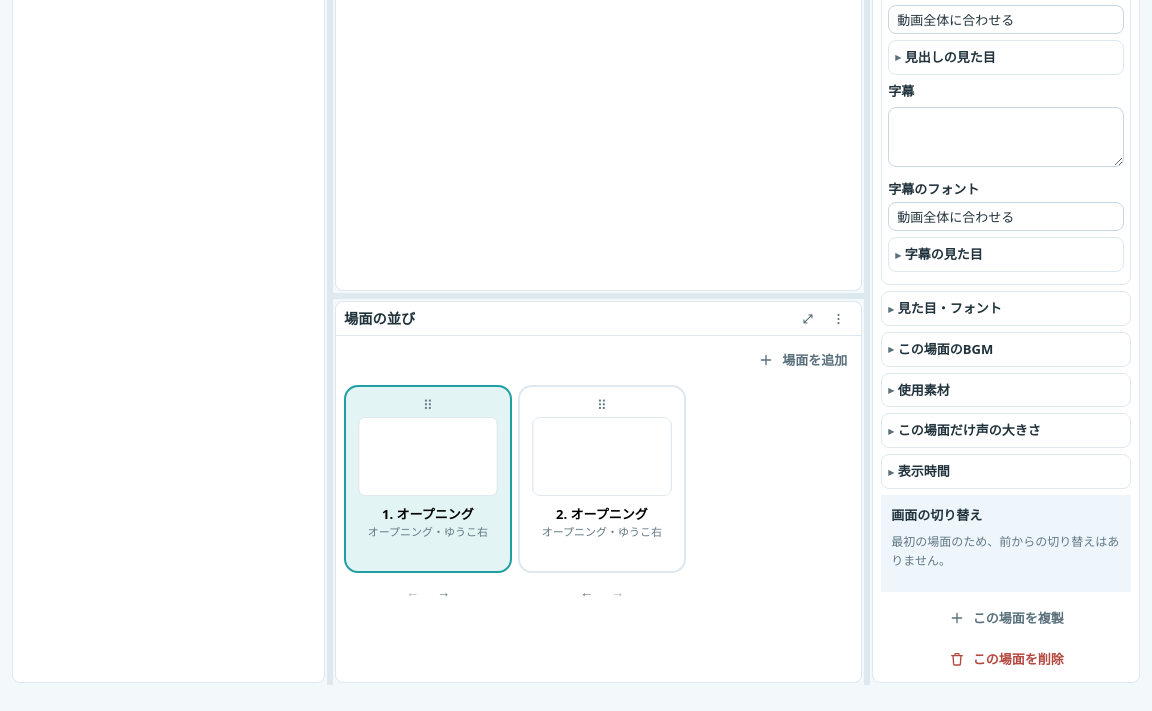
Test: SceneEditScreen 場面カードの右クリック（#772 候補6） › 確認をやめれば消えない
(page scrolled)
Right-click the button "⠿ 1. オープニング オープニング・ゆうこ右": [428, 479] box [344,386,512,573]
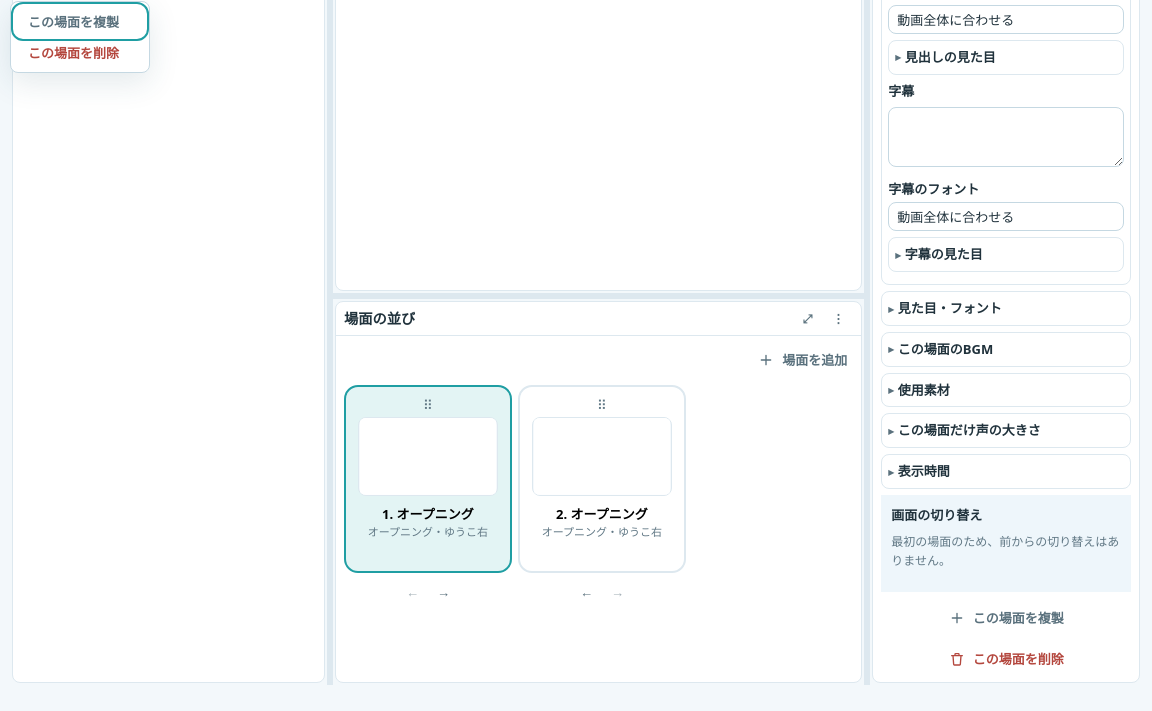
Click the menu item "この場面を削除": [80, 52] box [15,37,145,68]
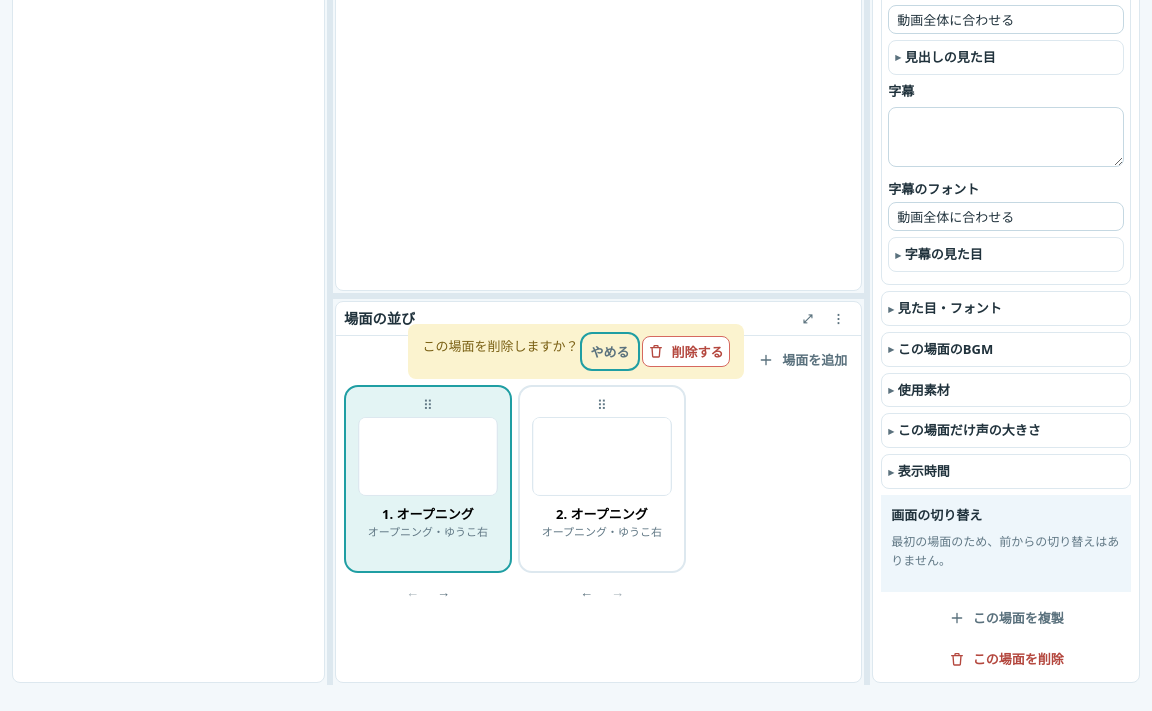
Click the button "やめる": [610, 351] box [584,336,636,366]
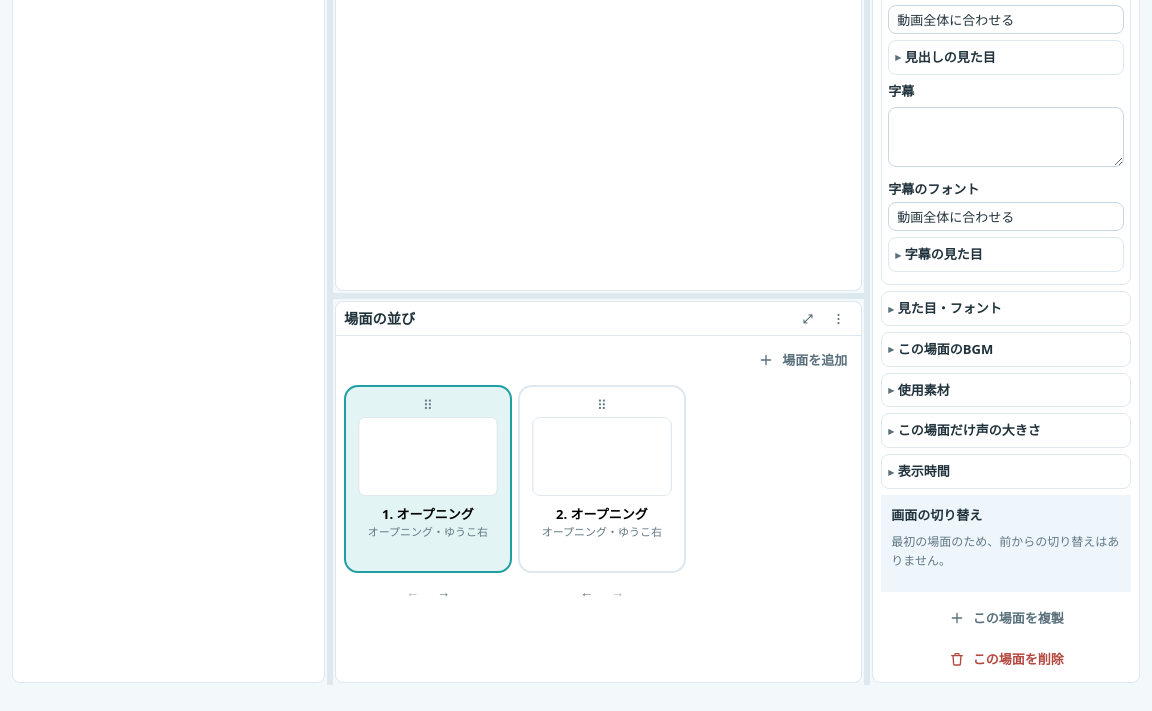
Result: the text "この場面を削除しますか？" is gone
